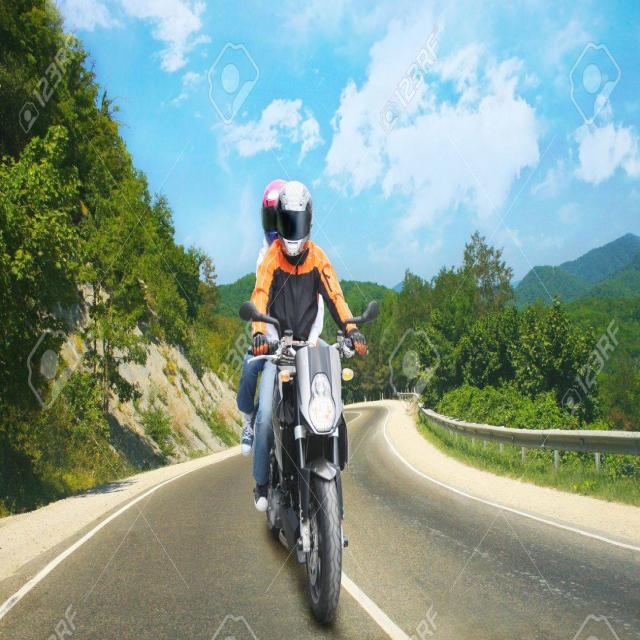MOTORCYCLE: (252, 321, 348, 628)
